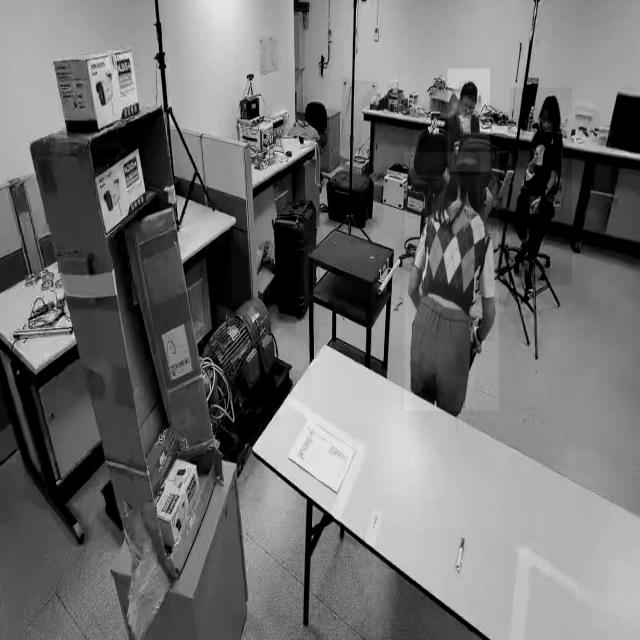hand_noglove: (460, 116, 472, 132), (529, 197, 539, 215), (533, 148, 540, 164)
head_nohelmet: (449, 148, 481, 177), (540, 94, 560, 115), (459, 80, 477, 96)
person: (404, 152, 500, 412), (510, 87, 572, 286), (448, 68, 490, 172)
